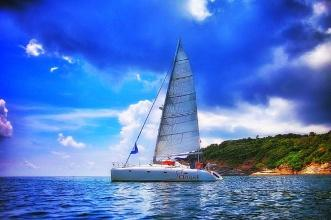fanchuan: (111, 36, 233, 184)
